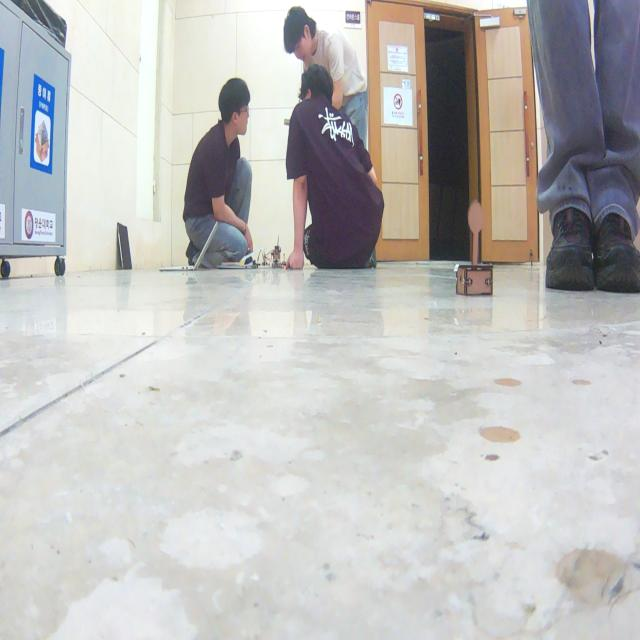target: (454, 199, 494, 296)
